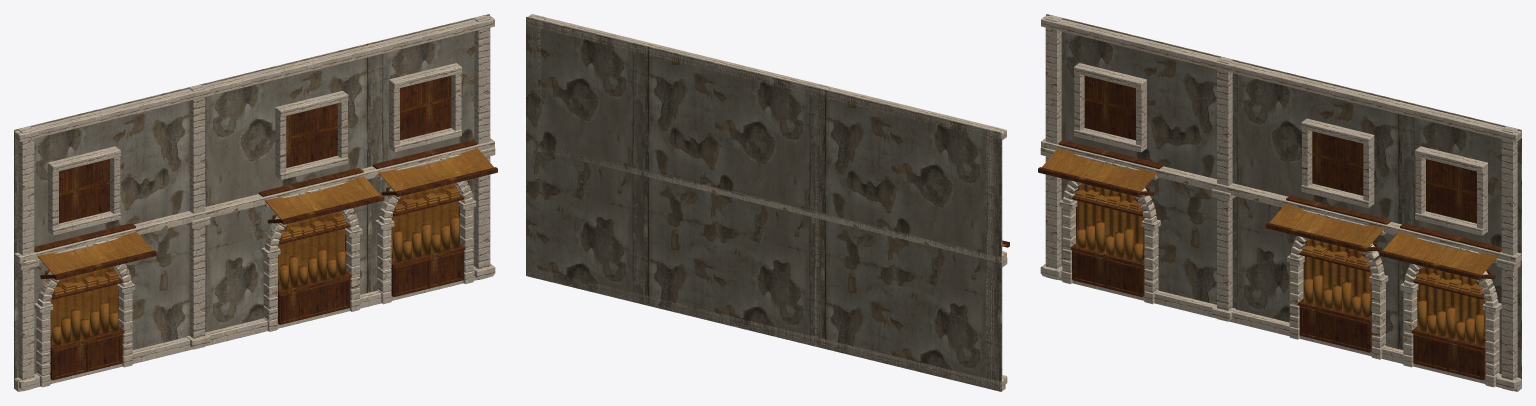
File: textile-west.glb
3 views of the same model, side by side, from view 1: azimuth 30°, elevation 25°; view 2: azimuth 150°, elevation 25°; view 3: azimuth 330°, elevation 25° (orthographic).
Visible parts, largest first — view 1: Weathered lime wall face; view 2: Weathered lime wall face; view 3: Weathered lime wall face.
Part boxes in pixels (left/top/right/bottom): Weathered lime wall face: left=14, top=14, right=497, bottom=391; Weathered lime wall face: left=526, top=14, right=1009, bottom=391; Weathered lime wall face: left=1038, top=14, right=1521, bottom=391.
Size of the model in its own units: 13.44 by 7 by 1.25.
Materials: 7 (7 with a texture image).
